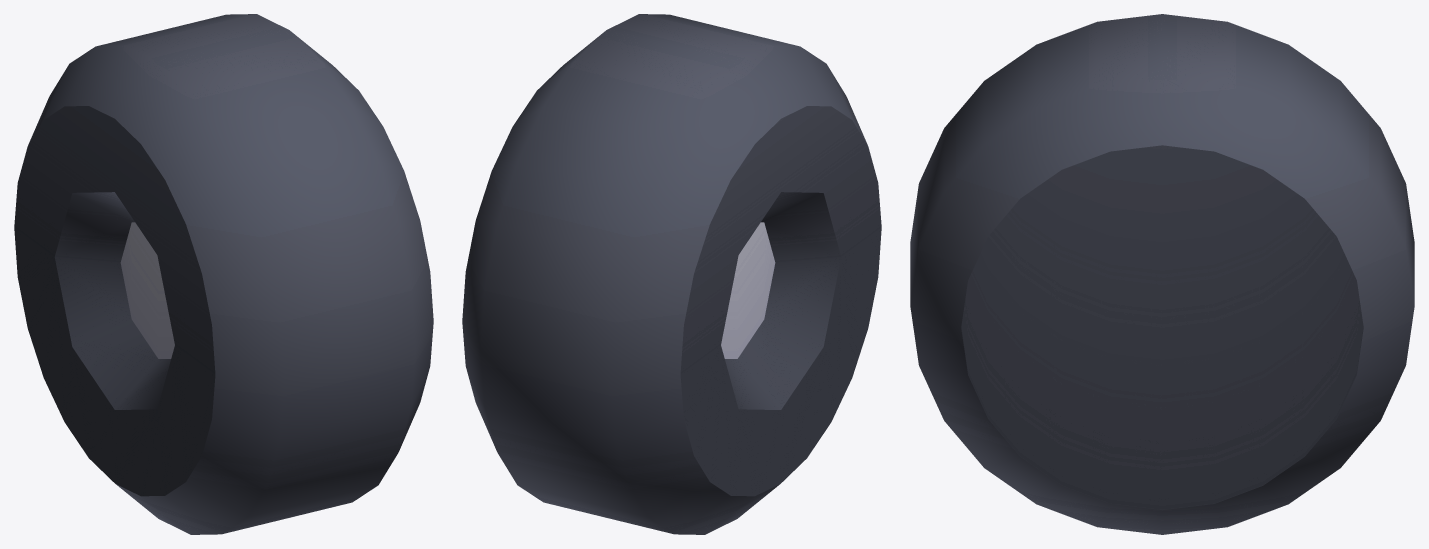
The model's file is wheel-small.glb.
3 renders of one model, left to right at view 1: azimuth 30°, elevation 25°; view 2: azimuth 150°, elevation 25°; view 3: azimuth 270°, elevation 25°, orthographic.
Visible parts, largest first — view 1: wheel-small; view 2: wheel-small; view 3: wheel-small.
Part boxes in pixels (bbox=[...]): wheel-small: bbox=[14, 14, 433, 534]; wheel-small: bbox=[462, 14, 881, 534]; wheel-small: bbox=[910, 14, 1414, 534].
Size of the model in its own units: 0.375 by 0.75 by 0.75.
1 material, 1 textured.
